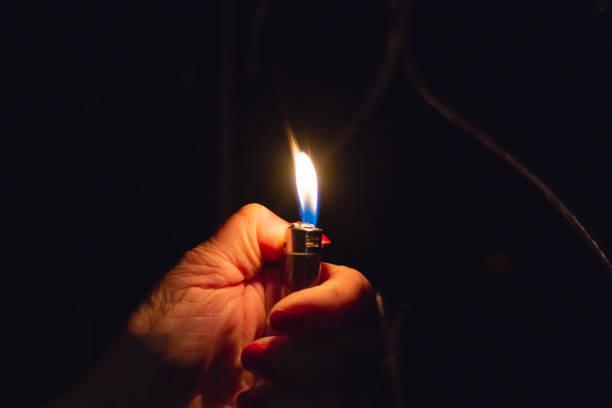Fire: (288, 128, 327, 224)
